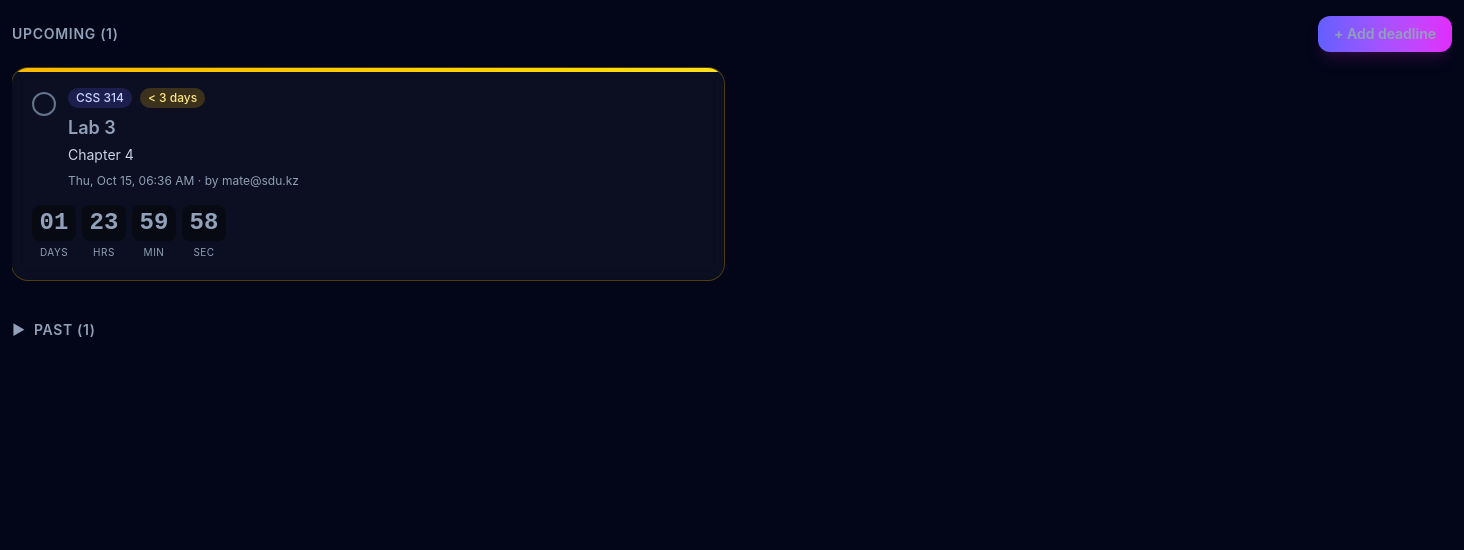
Test case: past deadlines are collapsed under a counter
Expected: the list item "Quiz 1" is not shown
Click the button "▶ Past (1)": click(54, 330) [12,320,96,340]
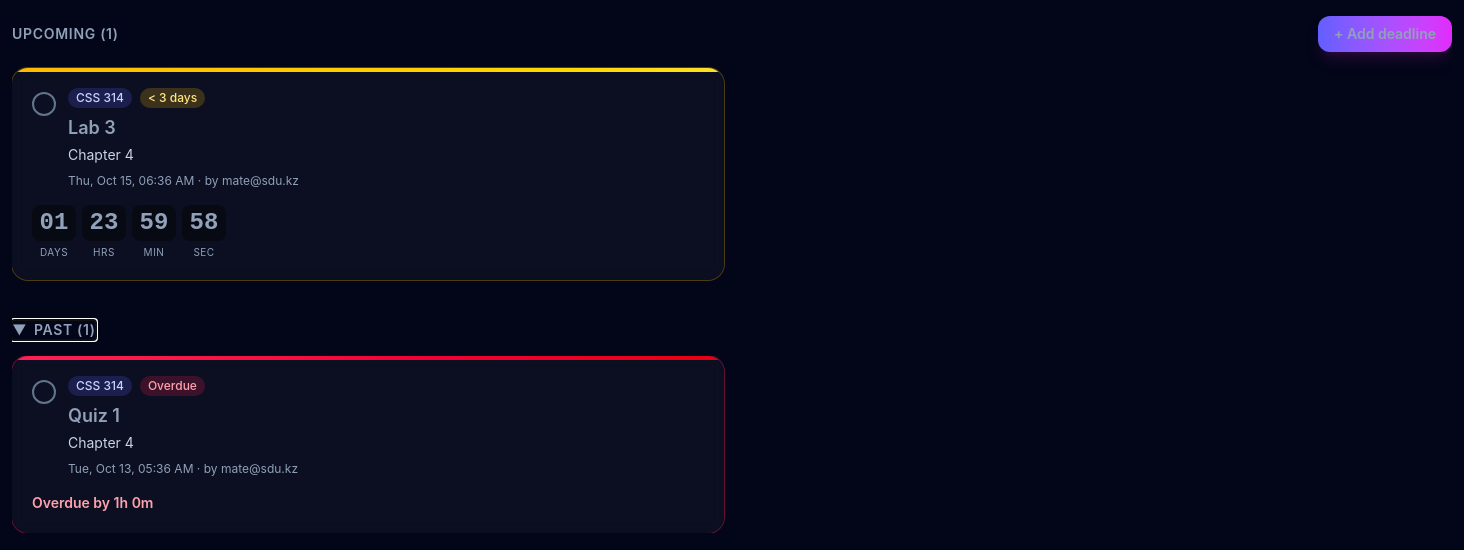
Expected: the list item "Quiz 1" is shown, [12,356,724,532]
